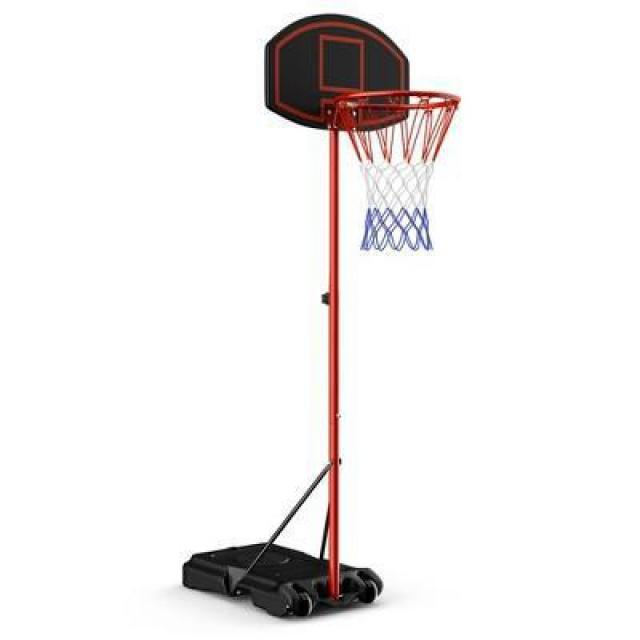hoop: (334, 91, 462, 251)
